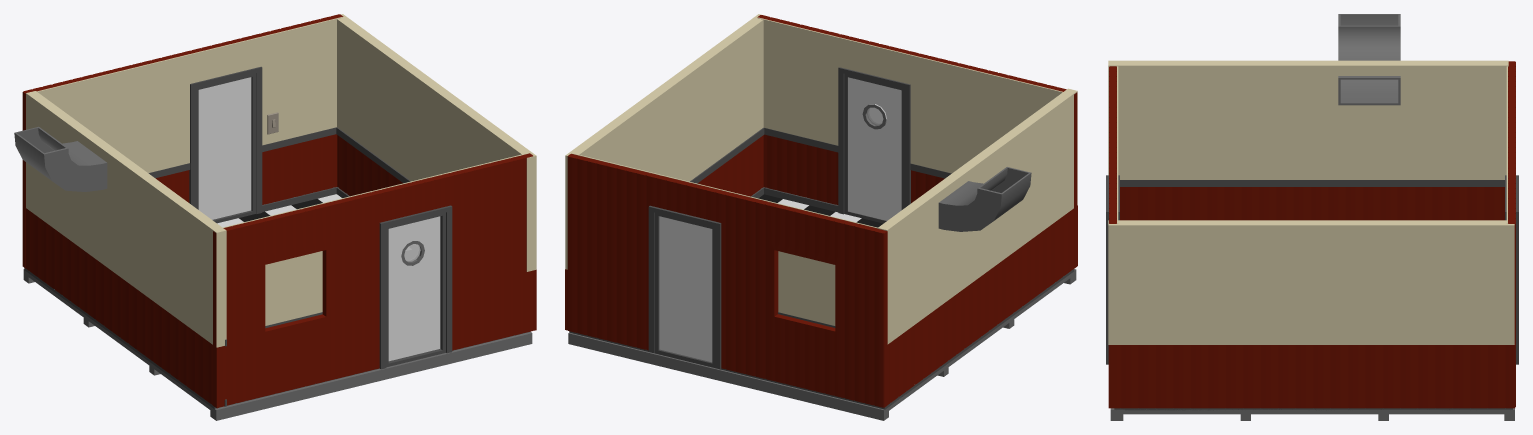
The model's file is roomUpdated.fbx.
3 views of the same model, side by side, from view 1: azimuth 30°, elevation 25°; view 2: azimuth 150°, elevation 25°; view 3: azimuth 270°, elevation 25° (orthographic). The views are drawn at different scales.
Visible parts, largest first — view 1: frontWall (×2), backWallDrywall2 (×2), backWallDywall1, frontWallDywall1, smallWallnoDoor (×2), doorPanel, doorPanel1, foundation, wallDoorFrame (×2), vent, insideDoorFrame (×2), tiles1 (+3 smaller); view 2: frontWall (×2), backWallDrywall2 (×2), backWallDywall1, frontWallDywall1, smallWallnoDoor (×2), doorPanel, doorPanel1, foundation, wallDoorFrame (×2), vent, insideDoorFrame (×2), tiles1 (+3 smaller); view 3: frontWallDywall1, backWallDywall1, smallWallnoDoor (×2), vent, frontWall (×2), backWallPanellingTop1, foundation, wallDoorFrame (×2), tiles1.
Part boxes in pixels (x1,y1,x2,y2): frontWall (×2): (22, 14, 533, 407); backWallDrywall2 (×2): (37, 17, 528, 325); backWallDywall1: (26, 91, 226, 347); frontWallDywall1: (337, 14, 536, 271); smallWallnoDoor (×2): (26, 135, 536, 408); doorPanel: (198, 77, 251, 219); doorPanel1: (388, 216, 440, 361); foundation: (23, 269, 532, 420); wallDoorFrame (×2): (189, 66, 452, 369); vent: (14, 126, 107, 191); insideDoorFrame (×2): (196, 73, 445, 367); tiles1: (24, 194, 530, 408); frontWall (×2): (567, 15, 1077, 407); backWallDrywall2 (×2): (572, 17, 1062, 325); backWallDywall1: (877, 88, 1077, 344); frontWallDywall1: (565, 14, 763, 269); smallWallnoDoor (×2): (565, 135, 1077, 404); doorPanel: (659, 216, 712, 362); doorPanel1: (848, 77, 901, 220); foundation: (568, 269, 1076, 420); wallDoorFrame (×2): (648, 67, 910, 369); vent: (938, 167, 1031, 231); insideDoorFrame (×2): (654, 73, 904, 367); tiles1: (569, 194, 1074, 409); frontWallDywall1: (1108, 220, 1514, 344); backWallDywall1: (1108, 60, 1508, 179); smallWallnoDoor (×2): (1108, 187, 1515, 408); vent: (1338, 14, 1400, 105); frontWall (×2): (1109, 61, 1515, 406); backWallPanellingTop1: (1120, 180, 1504, 186); foundation: (1110, 408, 1514, 420); wallDoorFrame (×2): (1106, 175, 1518, 364); tiles1: (1114, 408, 1512, 410).
Bounding box in the file's own units: 20.7 × 10.47 × 18.42.
